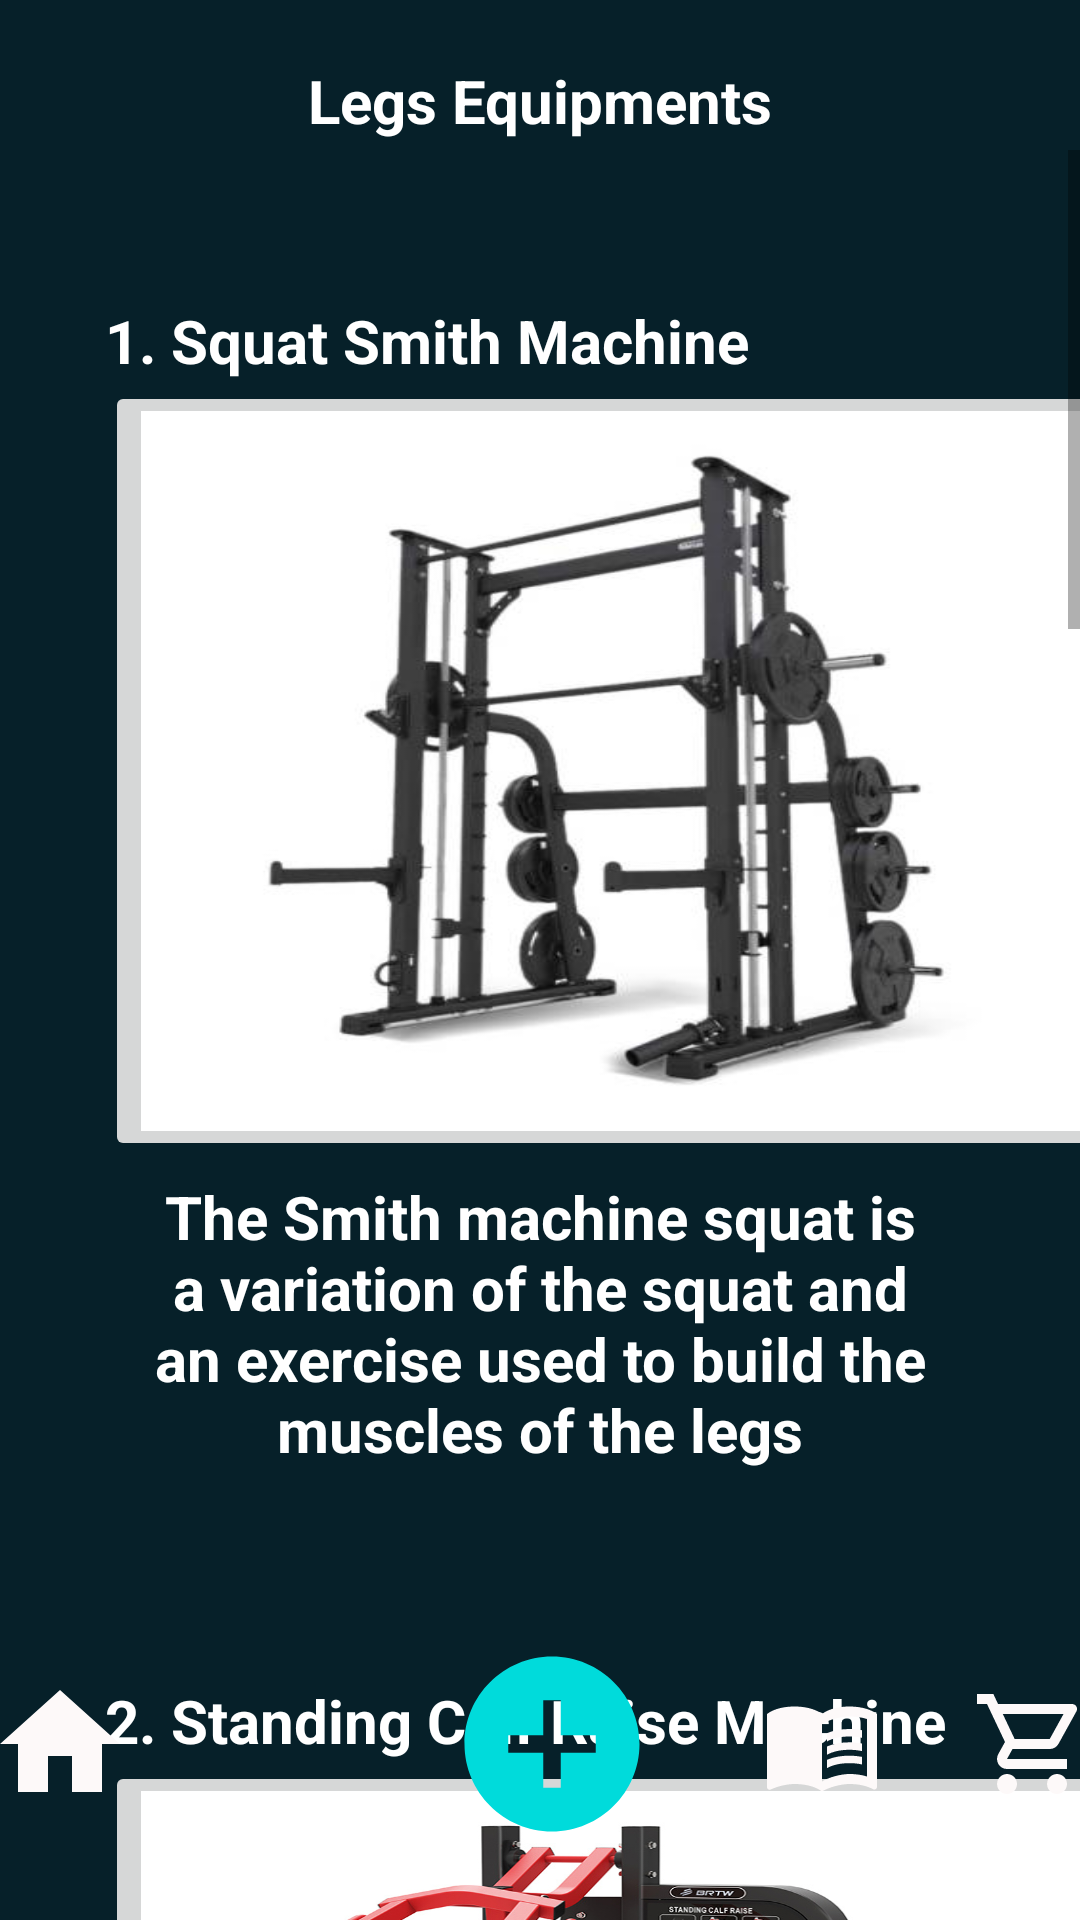

Screen size 1080*1920. Icon name, then its center in pixels as (x=x, y=y):
add circle: (x=552, y=1744)
book: (x=822, y=1744)
home: (x=66, y=1753)
shopping cart: (x=1027, y=1731)
